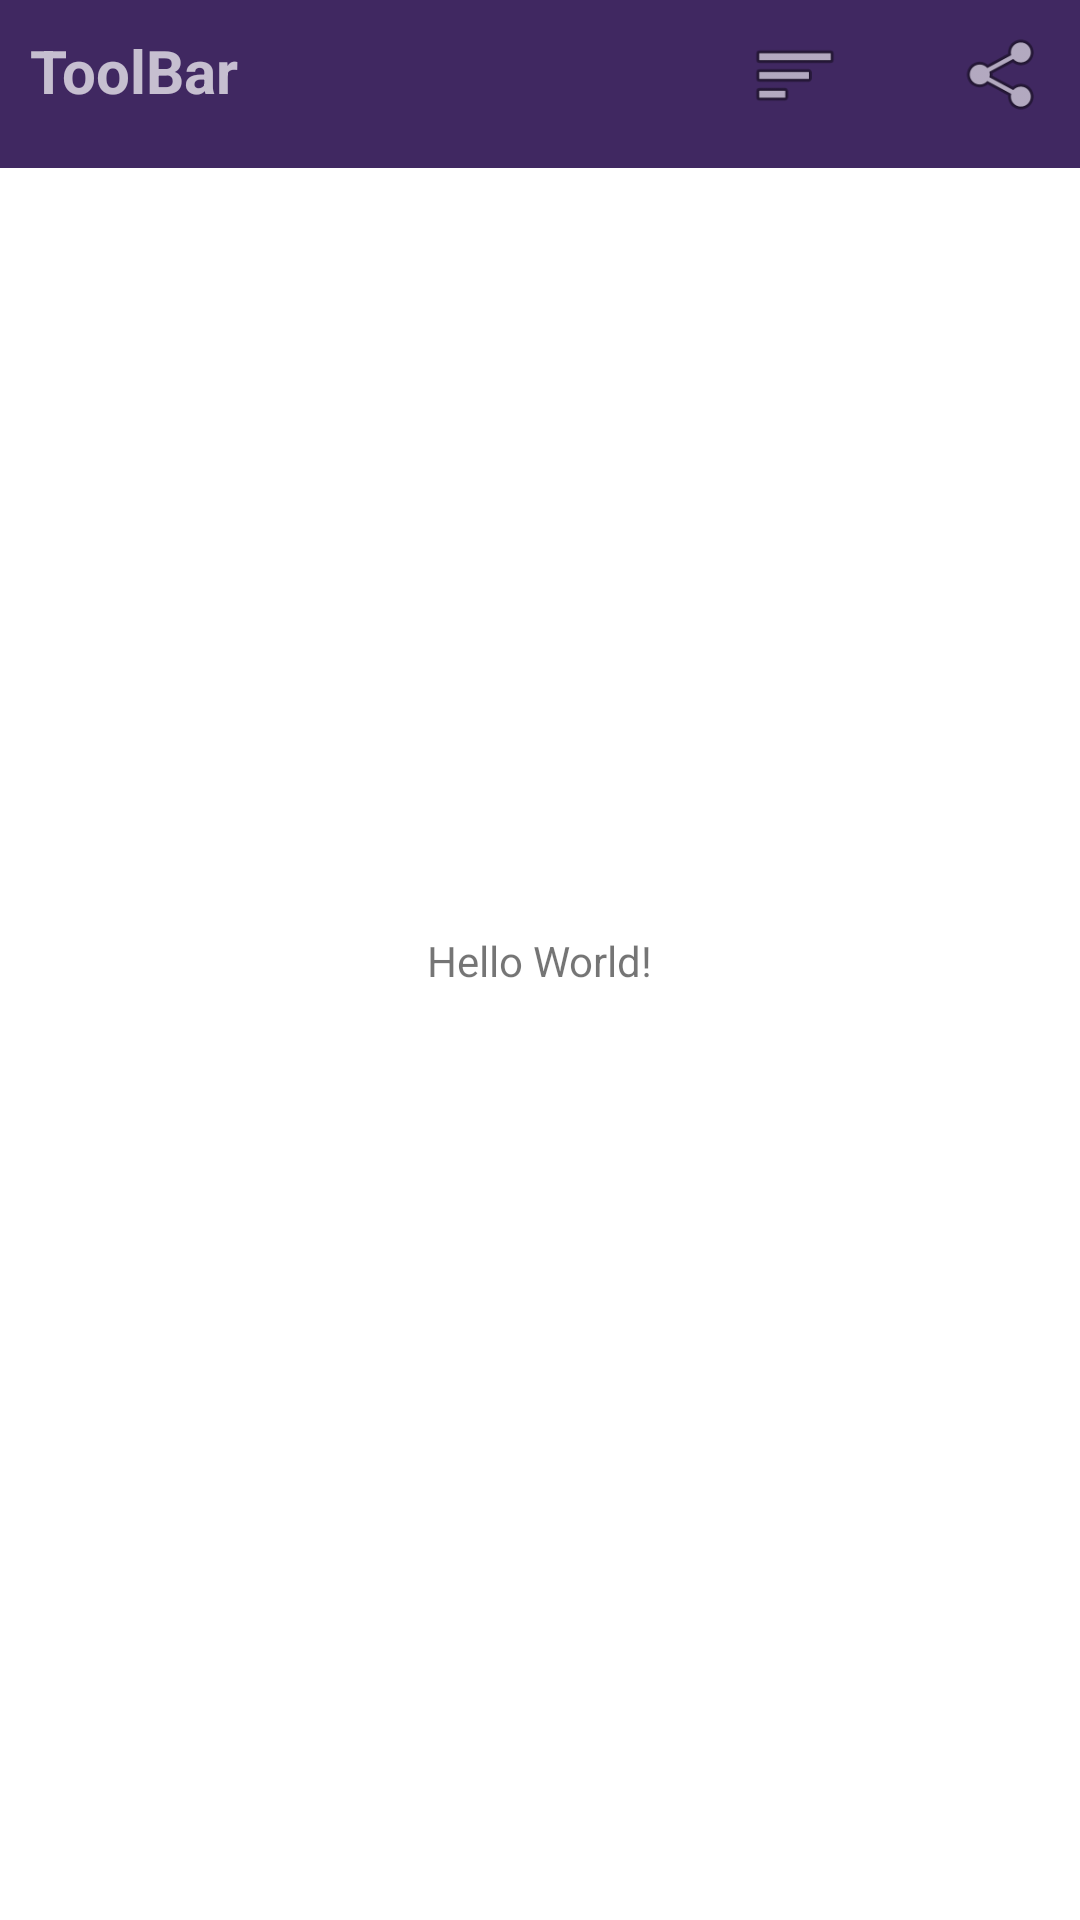

Locate icon controls on the screen. Image size 1080×1920, boxes as (x1, y1, x2, y2).
share: (967, 40, 1034, 109)
sort by size: (757, 51, 833, 100)
